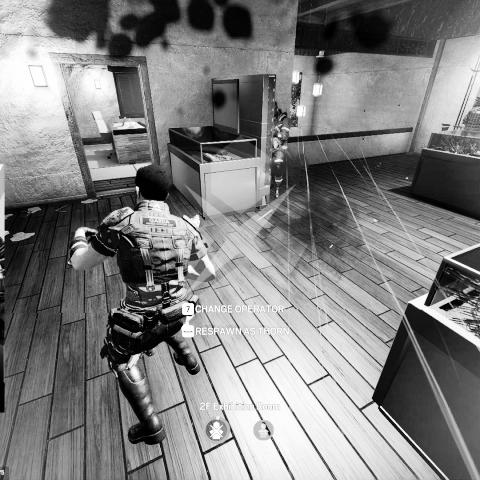Character: (66, 161, 217, 446), (269, 99, 293, 199)
Head: (133, 164, 172, 206)
